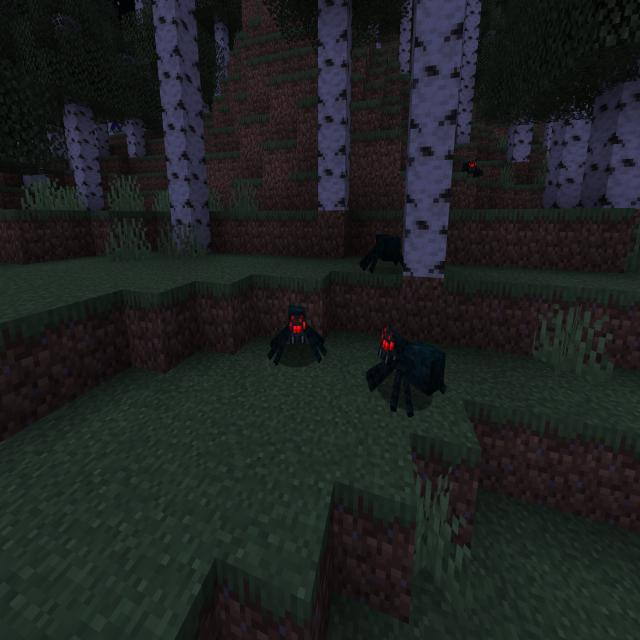Cave Spider: (364, 318, 448, 422), (268, 301, 328, 369), (358, 228, 410, 278), (458, 154, 486, 180)
